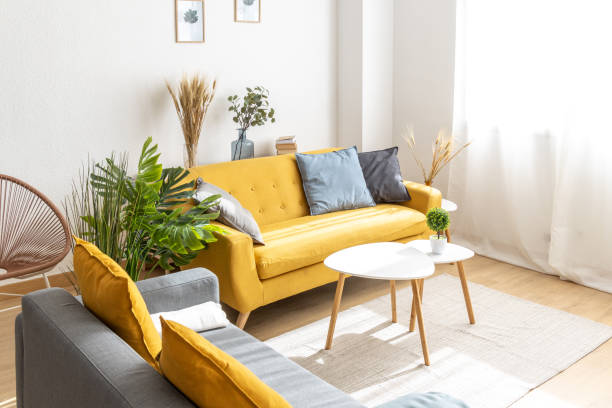flower vase: (162, 72, 218, 162)
large plant: (74, 146, 215, 271)
small plant: (226, 84, 277, 157), (423, 207, 449, 256)
sofa: (11, 235, 470, 408), (149, 143, 460, 332)
table: (324, 238, 434, 371), (402, 236, 477, 332)
wall art: (172, 0, 206, 44), (232, 0, 262, 25)
